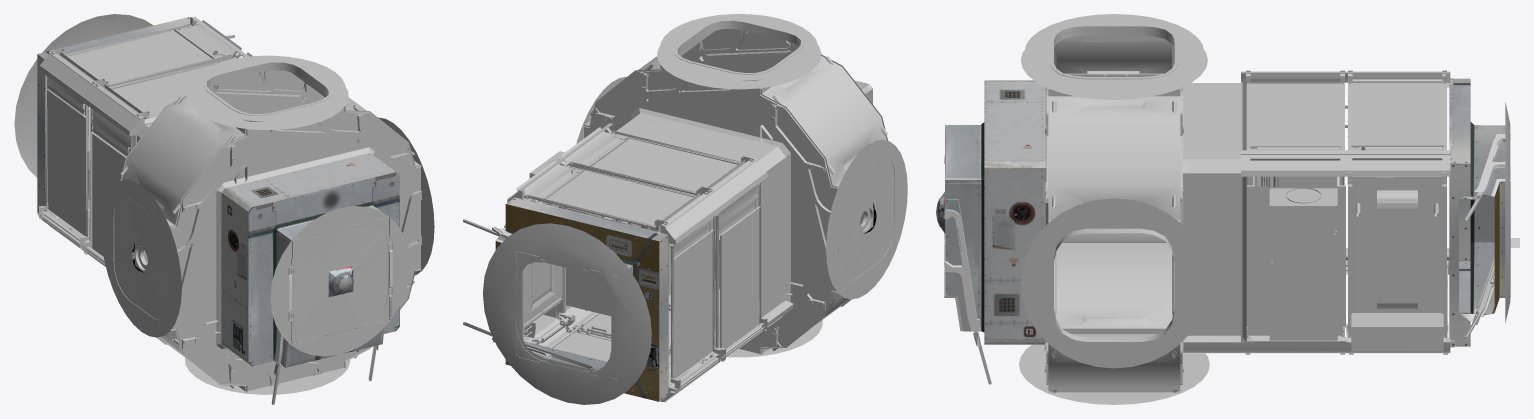
3 views of the same model, side by side, from view 1: azimuth 30°, elevation 25°; view 2: azimuth 150°, elevation 25°; view 3: azimuth 270°, elevation 25° (orthographic). The views are drawn at different scales.
Visible parts, largest first — view 1: Node3_Int__Bulkhead_SBD; view 2: Node3_Int__Bulkhead_SBD; view 3: Node3_Int__Bulkhead_SBD.
Part boxes in pixels (x1=…): Node3_Int__Bulkhead_SBD: x1=14, y1=14, x2=434, y2=404; Node3_Int__Bulkhead_SBD: x1=463, y1=14, x2=907, y2=404; Node3_Int__Bulkhead_SBD: x1=936, y1=14, x2=1519, y2=404.
Size of the model in its own units: 3.24 by 5.35 by 3.24.
